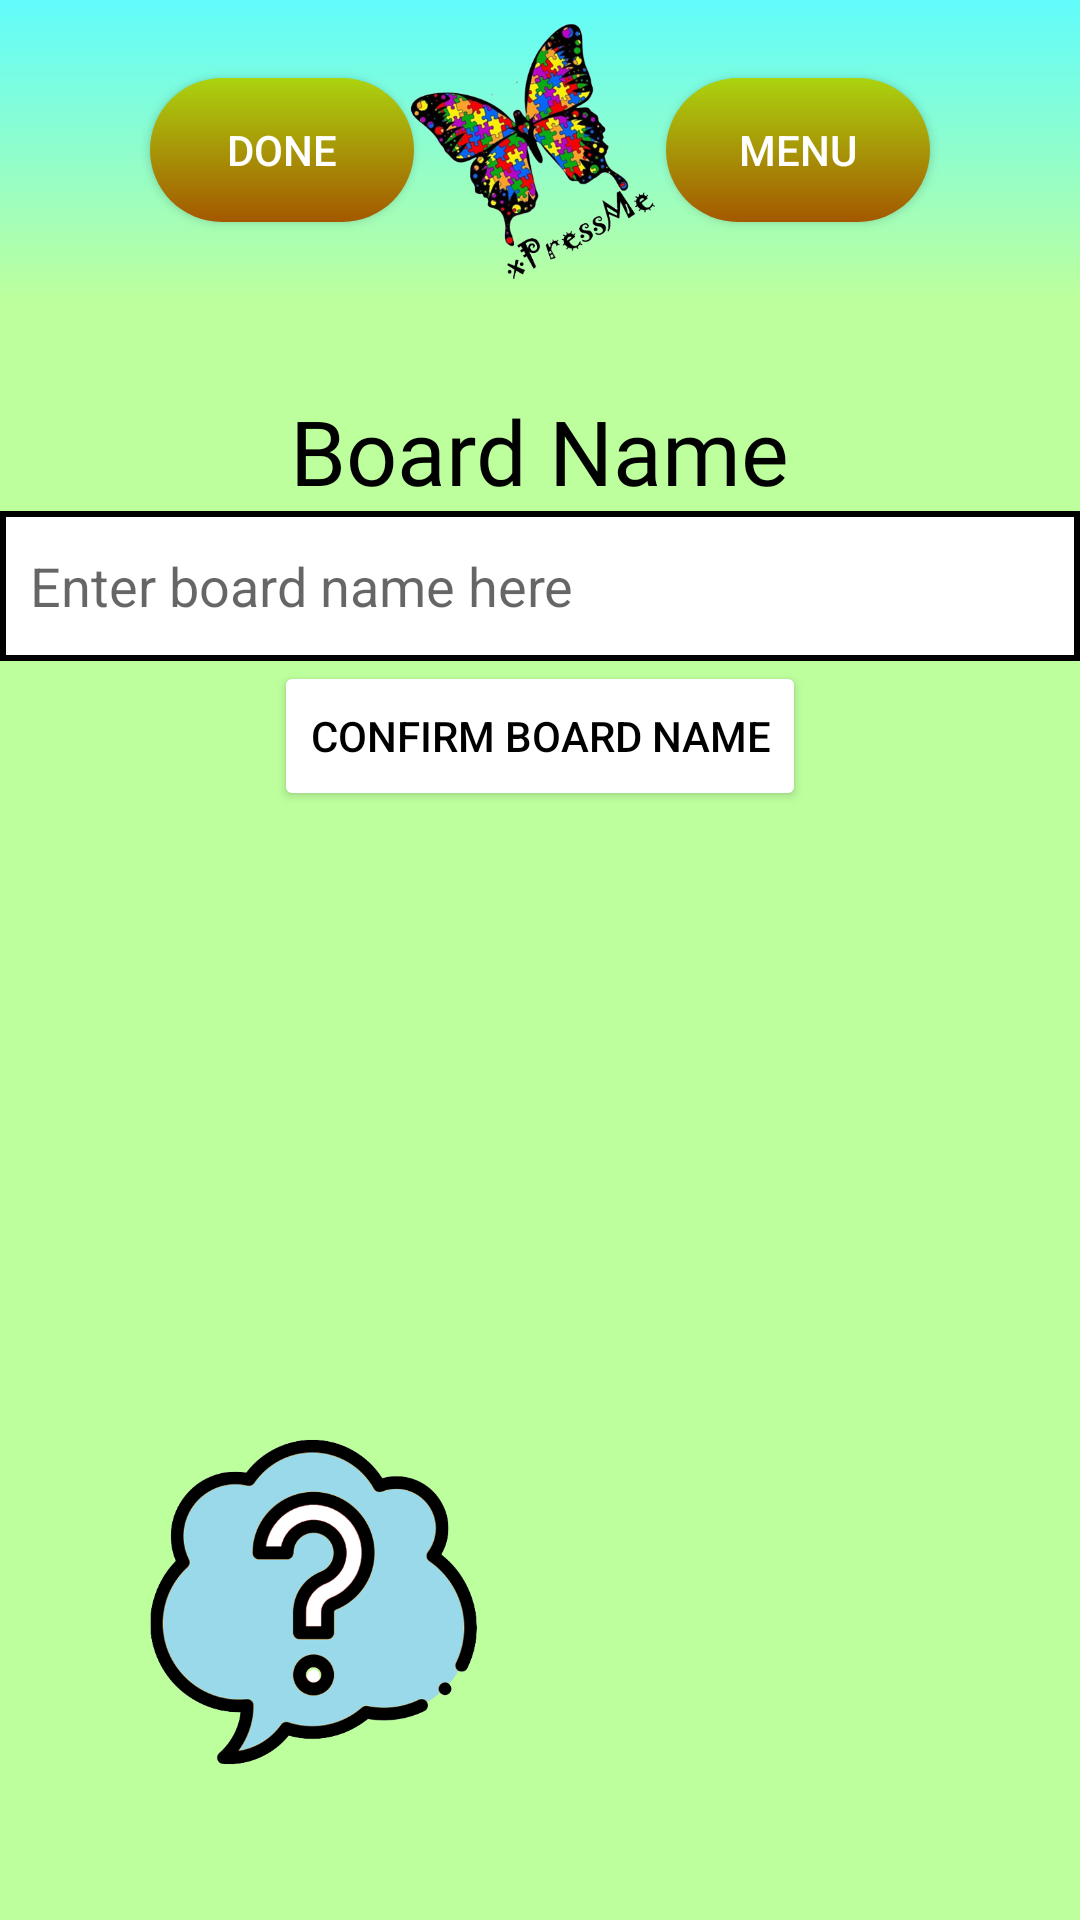

Where icons sit on this 1080px x 1920px app screen, as (x1, y1, x2, y2):
help: (150, 1440, 477, 1764)
